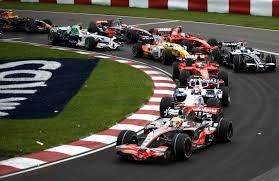FormulaOneCar: (113, 102, 240, 166), (157, 75, 234, 120), (208, 37, 279, 77), (48, 21, 125, 54), (85, 13, 156, 45), (169, 51, 233, 86), (130, 32, 195, 65)
